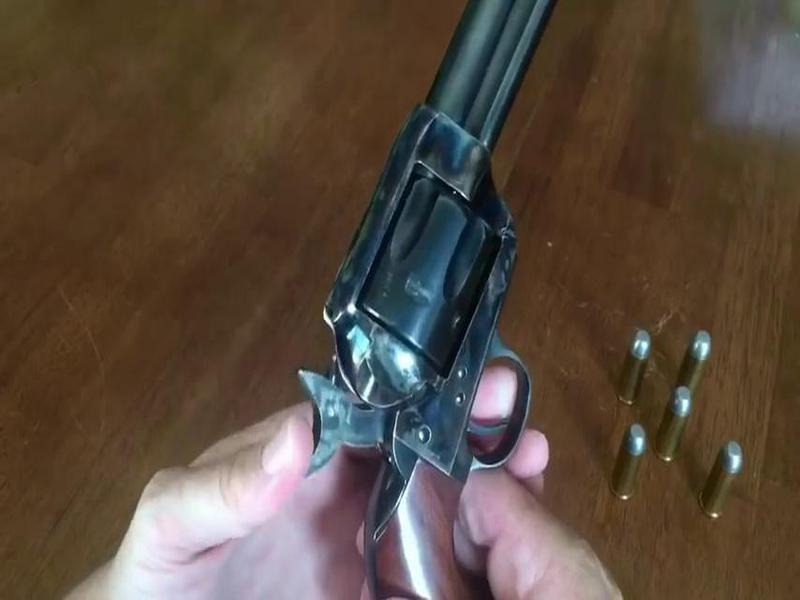Revolver: (294, 12, 583, 595)
